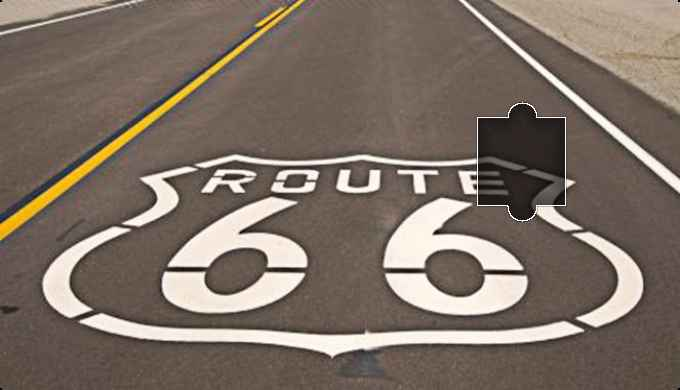gap: (479, 101, 565, 222)
